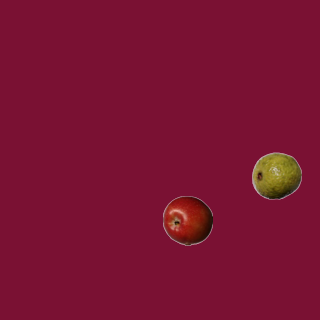Apple Braeburn: (162, 195, 212, 245)
Guava: (251, 150, 301, 200)
